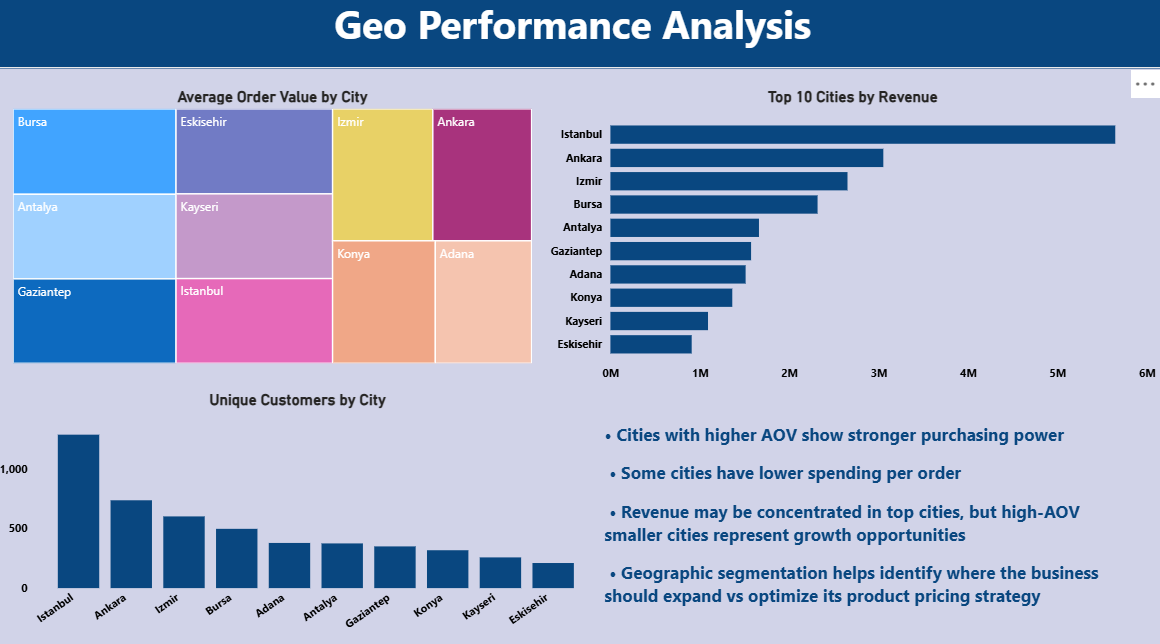

Layout of this report page (visuals, bound fields, positions):
{"tool":"powerbi","page":{"name":"Geo Analysis","canvas":[1280,720],"ordinal":4},"visuals":[{"type":"textbox","box":[0,0,1280.3,84.1],"z":0},{"type":"barChart","title":"Top 10 Cities by Revenue","fields":{"Category":["ecommerce_cleaned.City"],"Y":["ecommerce_cleaned.Total Revenue"]},"box":[604.4,103.8,675.9,332.3],"z":1000},{"type":"clusteredColumnChart","title":"Unique Customers by City","fields":{"Category":["ecommerce_cleaned.City"],"Y":["Count(ecommerce_cleaned.Customer_ID)"]},"box":[0,437.5,664.7,281.9],"z":2000},{"type":"treemap","fields":{"Group":["ecommerce_cleaned.City"],"Values":["ecommerce_cleaned.Average Order Value"]},"box":[15.4,103.8,579.1,308.5],"z":3000},{"type":"textbox","box":[664.7,468.4,589,239.8],"z":4000}]}

Visuals, with their boxes in screenshot pixels (x1, y1, x2, y2), scaled from the page's 1280x720 canvas onto the 1160x644 screenshot:
textbox: pyautogui.locateOnScreen(0, 0, 1159, 75)
"Top 10 Cities by Revenue" barChart: pyautogui.locateOnScreen(548, 93, 1159, 390)
"Unique Customers by City" clusteredColumnChart: pyautogui.locateOnScreen(0, 391, 602, 643)
treemap - ecommerce_cleaned.City x ecommerce_cleaned.Average Order Value: pyautogui.locateOnScreen(14, 93, 539, 369)
textbox: pyautogui.locateOnScreen(602, 419, 1136, 633)
